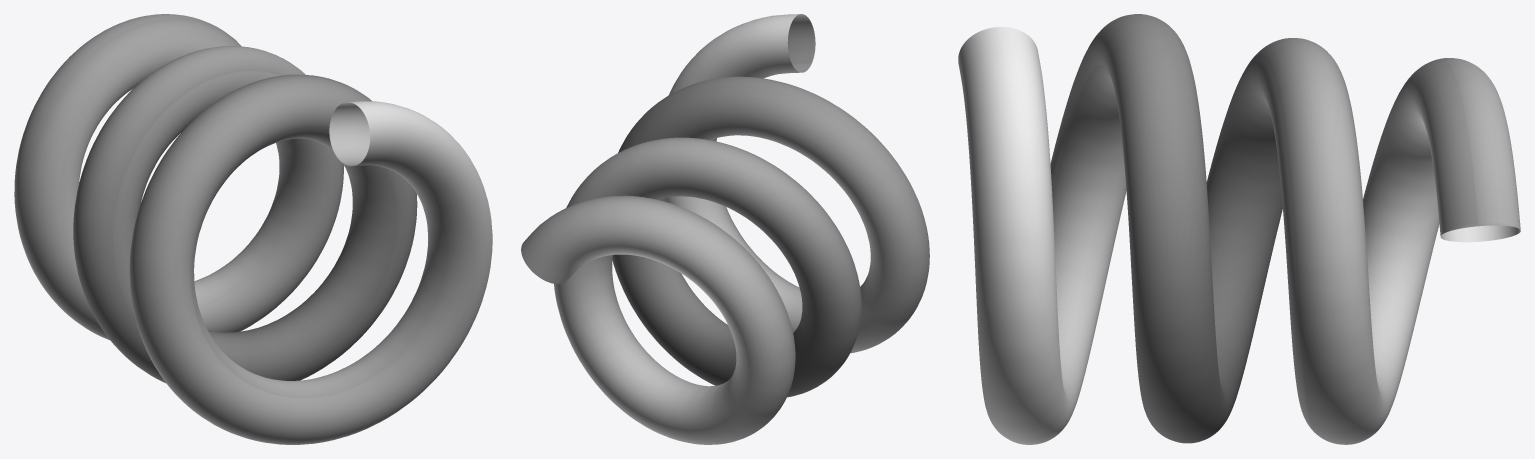
The model's file is Resorte.obj.
3 views of the same model, side by side, from view 1: azimuth 30°, elevation 25°; view 2: azimuth 150°, elevation 25°; view 3: azimuth 270°, elevation 25° (orthographic). The views are drawn at different scales.
Visible parts, largest first — view 1: Sweep; view 2: Sweep; view 3: Sweep.
Boxes of the visible parts, x1,y1,x2,y2 form: Sweep: (14, 14, 492, 444); Sweep: (521, 14, 929, 444); Sweep: (958, 14, 1520, 444).
Bounding box in the file's own units: 1.29 × 1.33 × 1.64.
